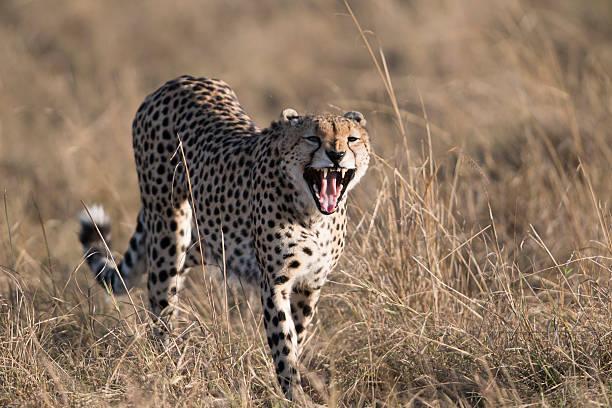cheetah: (268, 102, 392, 238)
